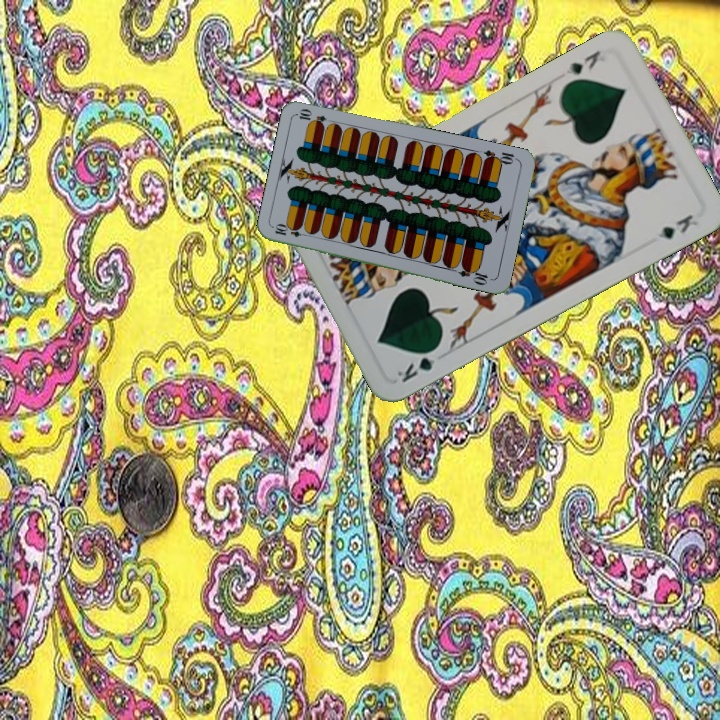E10: (480, 146, 520, 167), (271, 222, 311, 240)
GK: (393, 342, 442, 386), (562, 46, 604, 78)
